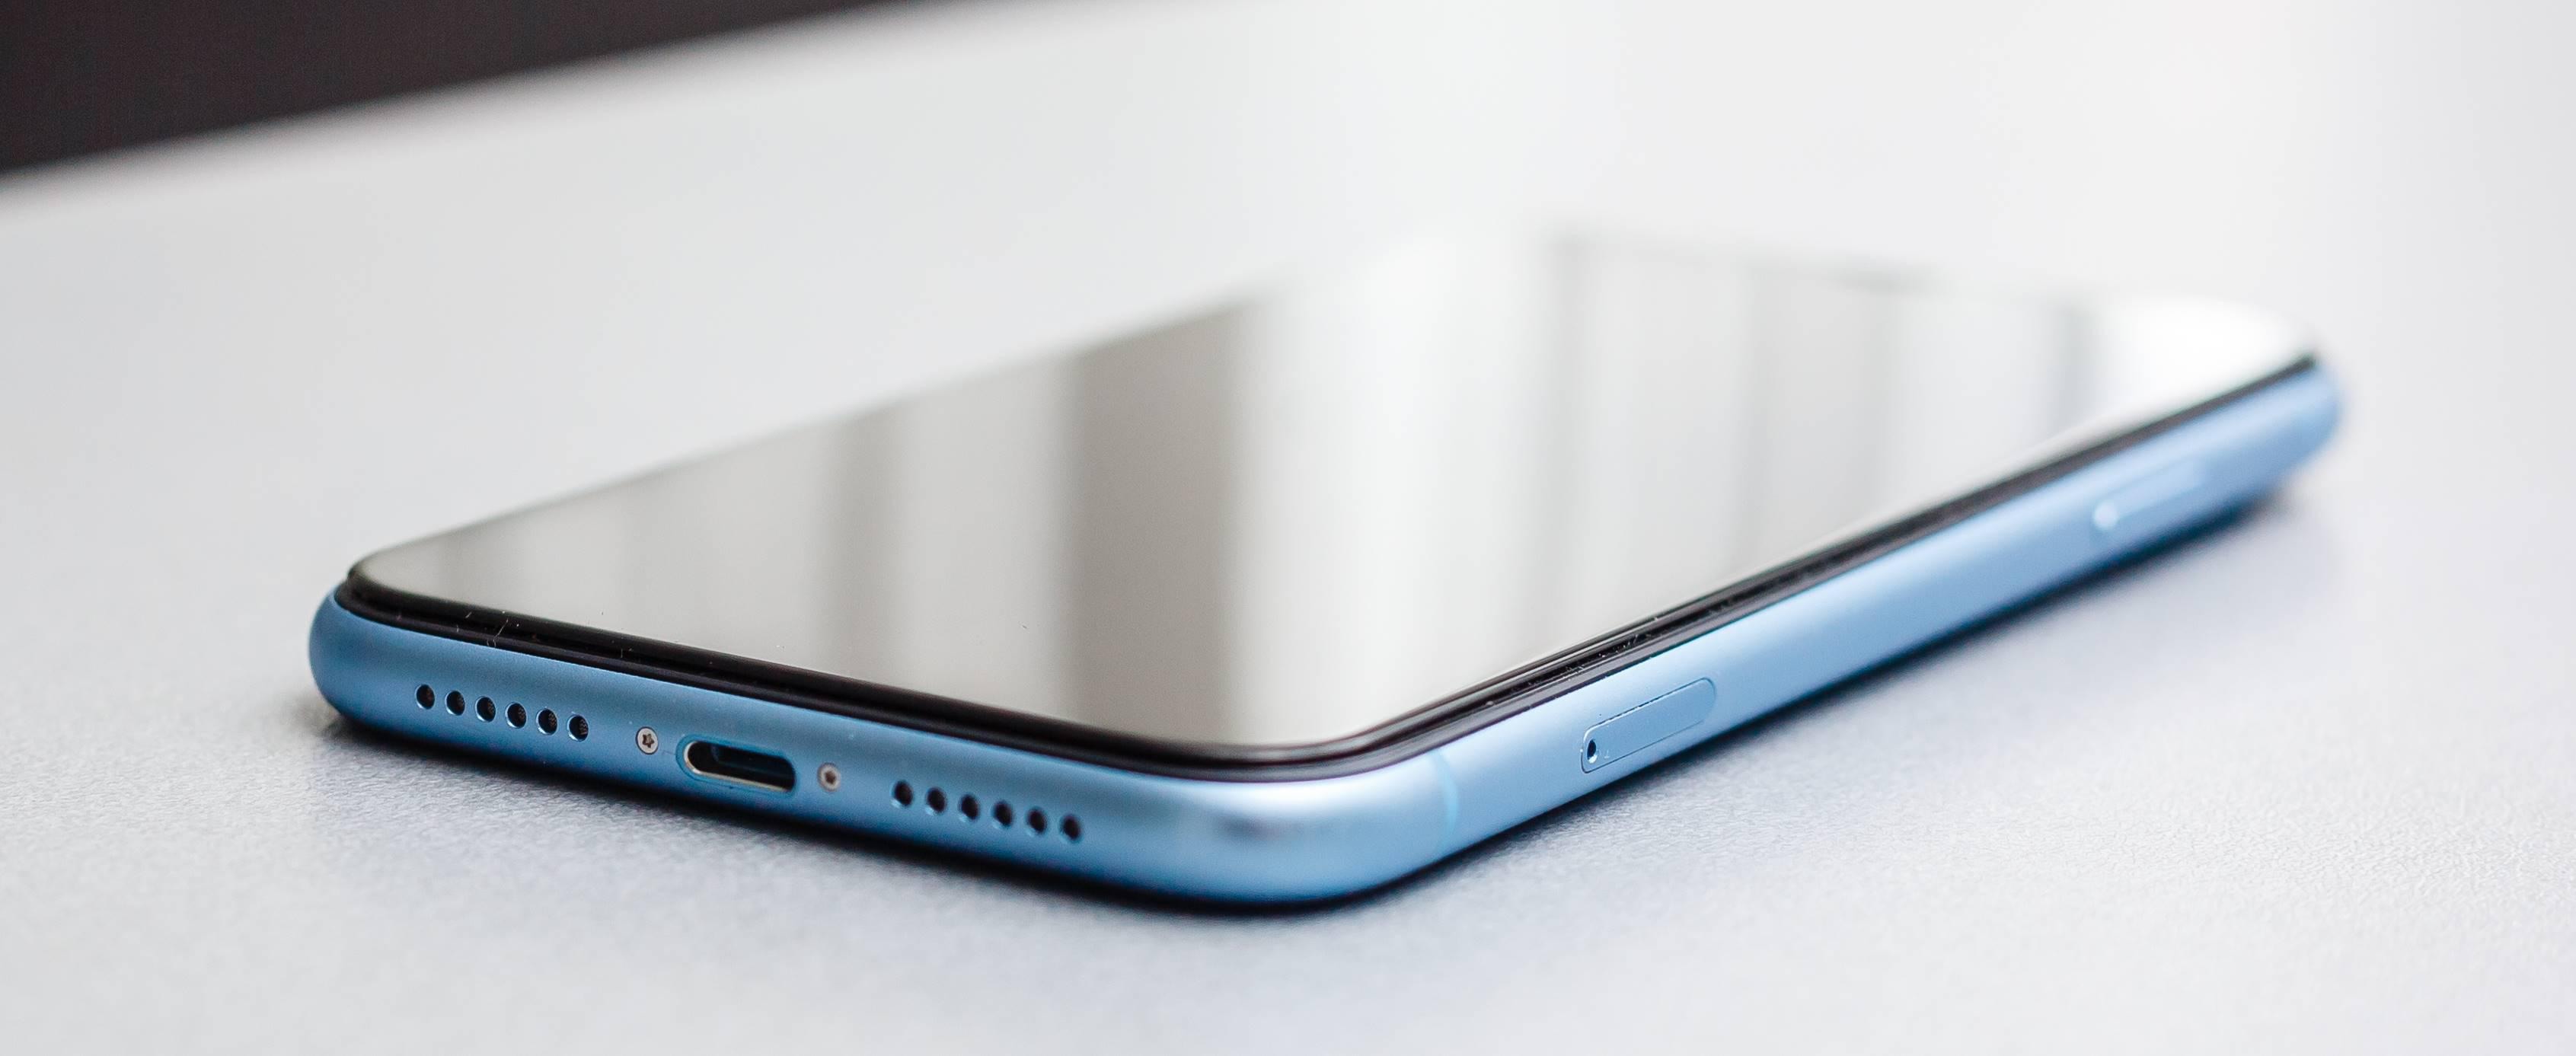Smartphone: (368, 163, 2422, 915)
